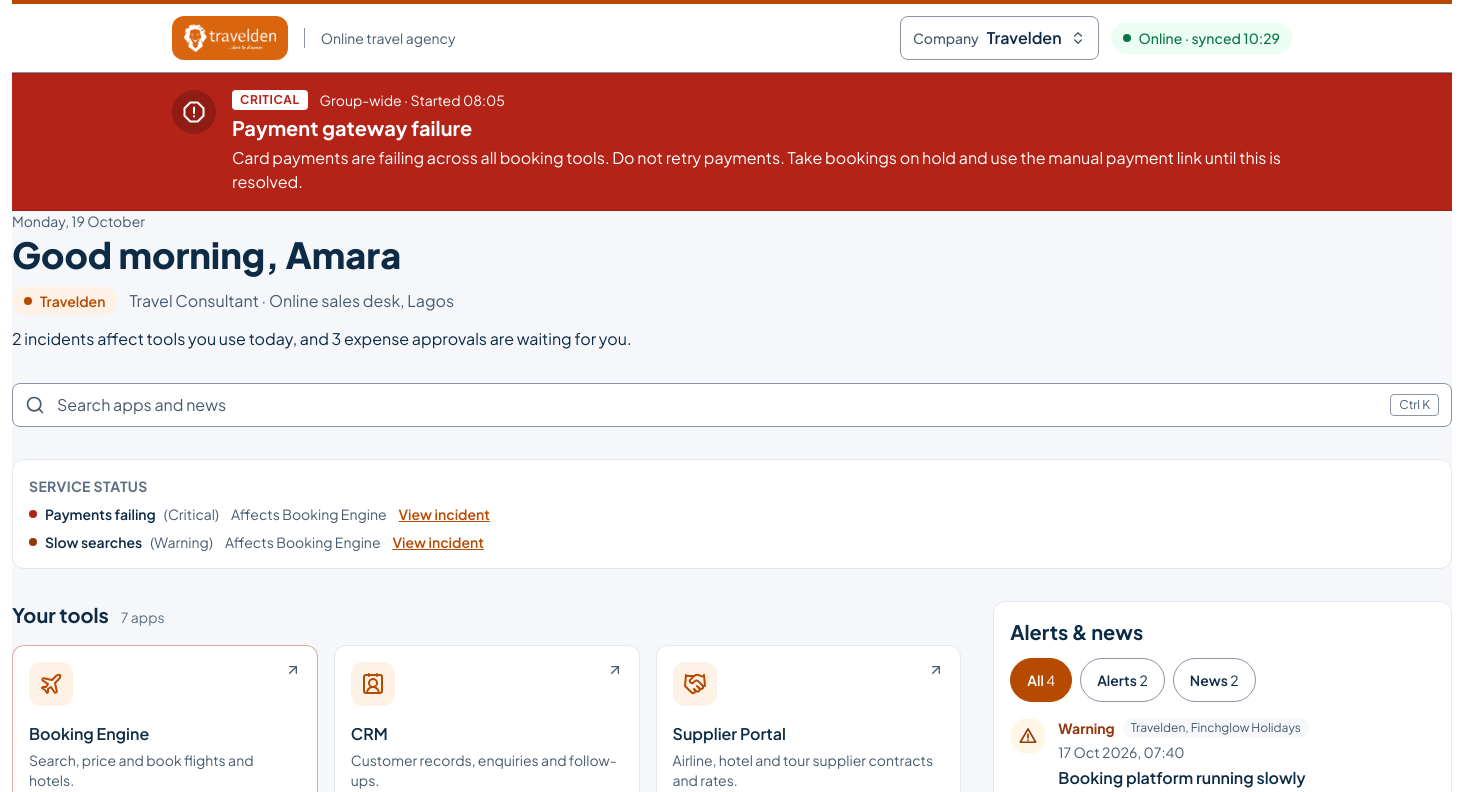
Test: UpdatesCard › narrows to one kind with the chips, and says which chip is on
Click the button "News 2" at (1214, 680), box top-left (1173, 658), bottom-right (1256, 702)
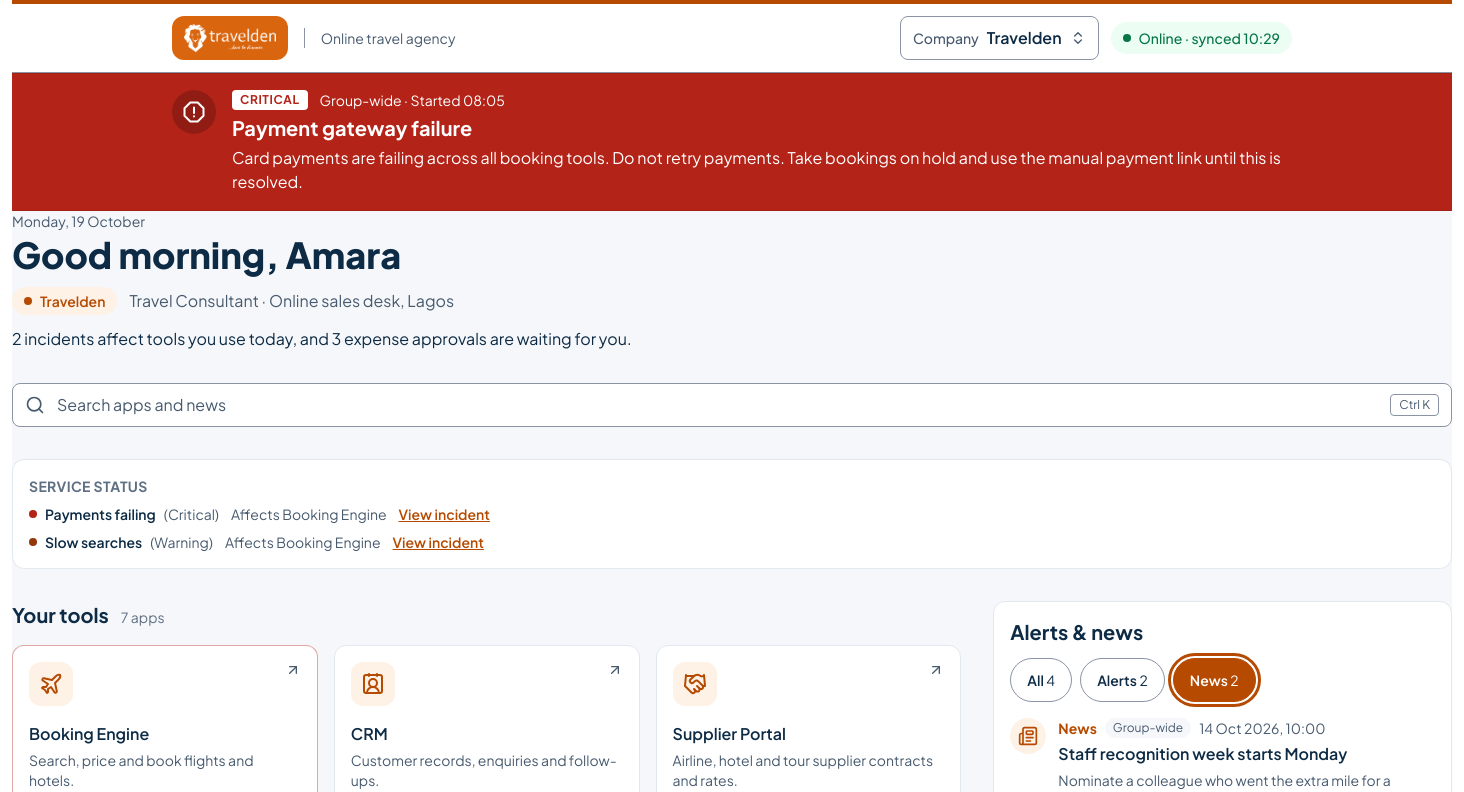
expect the heading "Booking platform running slowly" is gone: met
Click the button "Alerts 2" at (1122, 680), box top-left (1080, 658), bottom-right (1165, 702)
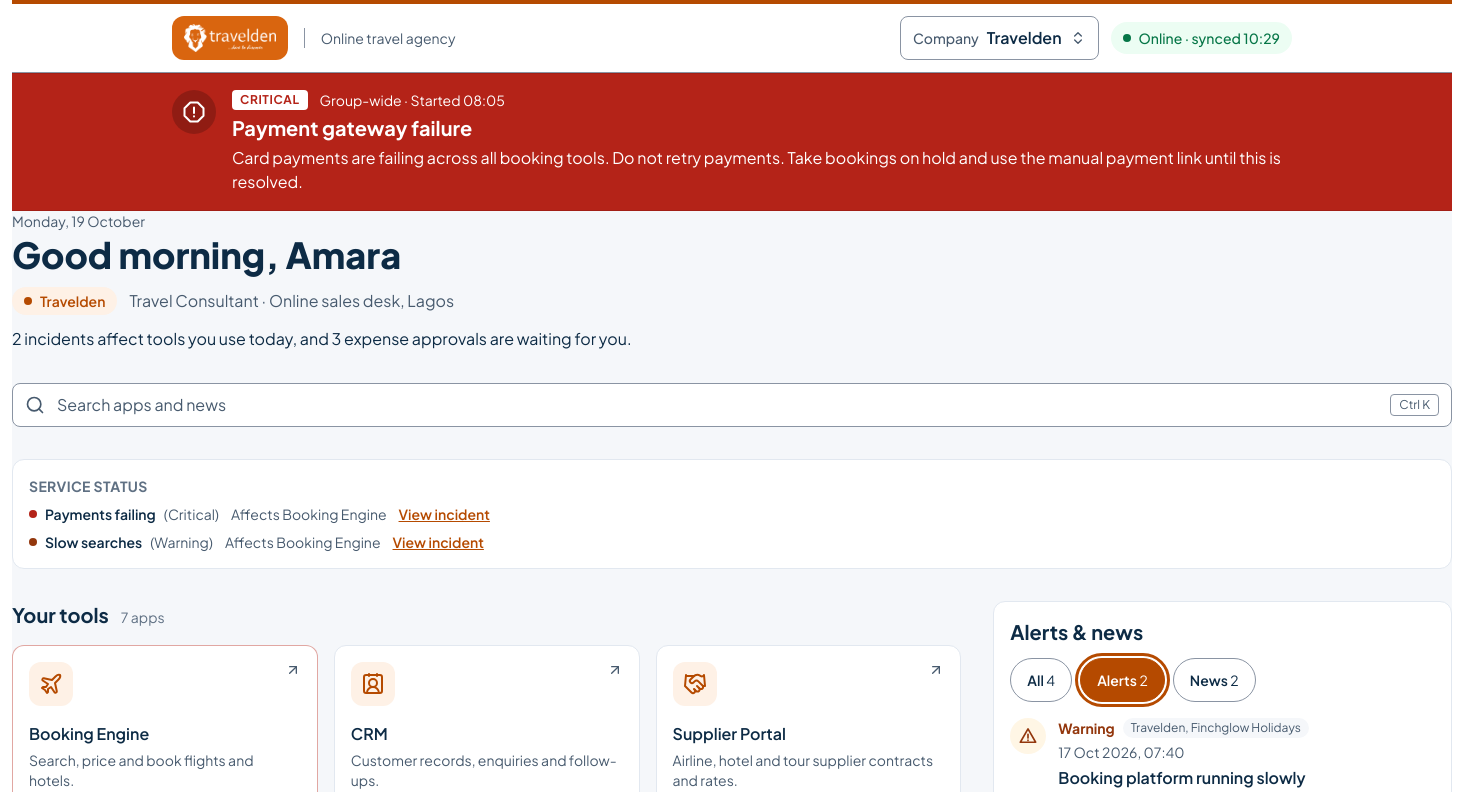
expect the heading "Booking platform running slowly" is shown: met, box top-left (1058, 767), bottom-right (1306, 788)
